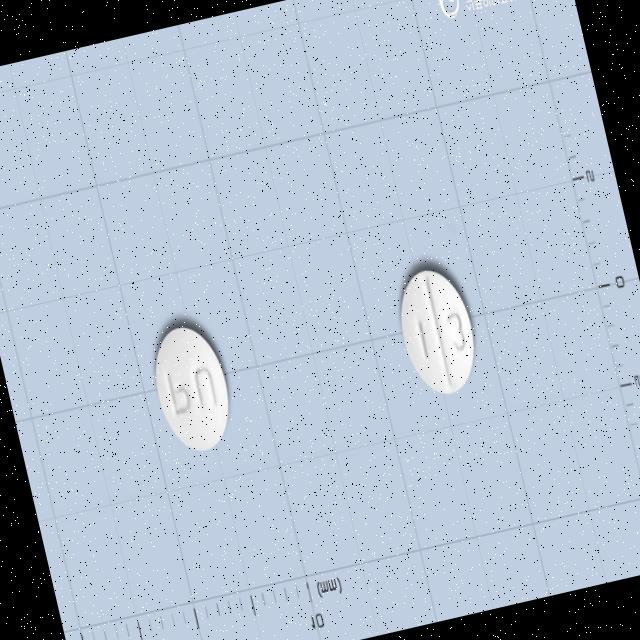Rheumakin Tab: (143, 318, 242, 460), (390, 262, 484, 400)
